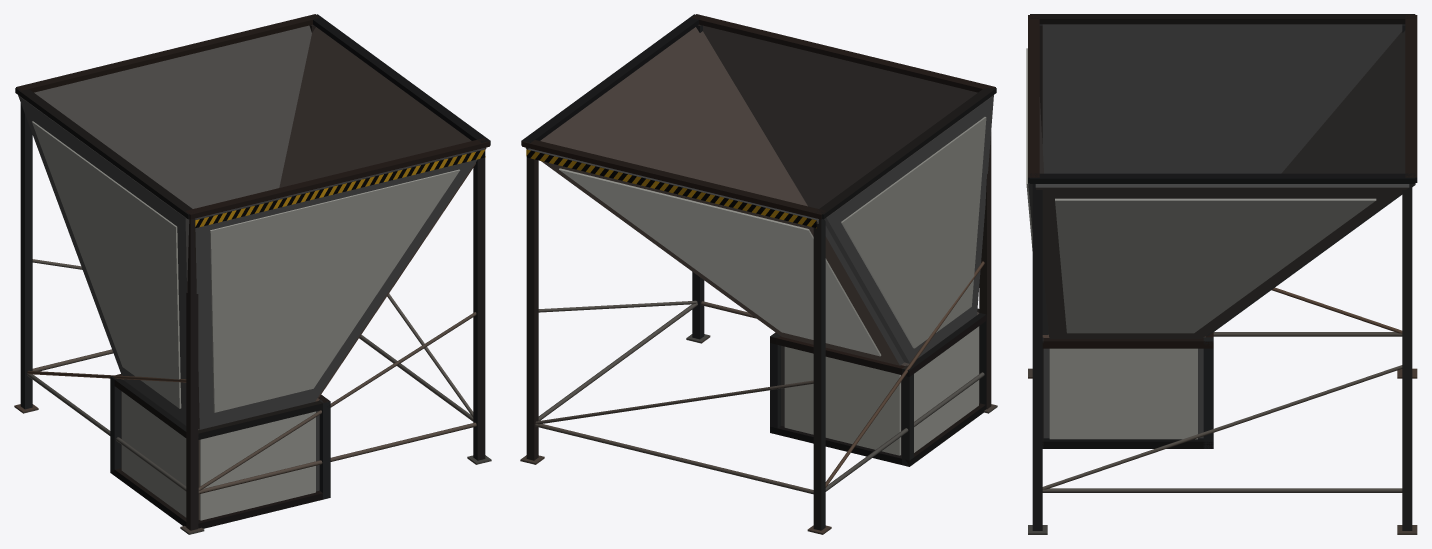
Rendered from chute_hopper_2x2.glb.
3 views of the same model, side by side, from view 1: azimuth 30°, elevation 25°; view 2: azimuth 150°, elevation 25°; view 3: azimuth 270°, elevation 25° (orthographic). The views are drawn at different scales.
Visible parts, largest first — view 1: Frame; view 2: Frame; view 3: Frame.
Boxes of the visible parts, x1,y1,x2,y2 form: Frame: (14, 14, 491, 534); Frame: (520, 14, 997, 534); Frame: (1026, 14, 1417, 534).
Bounding box in the file's own units: 3.95 × 3.98 × 3.96.
